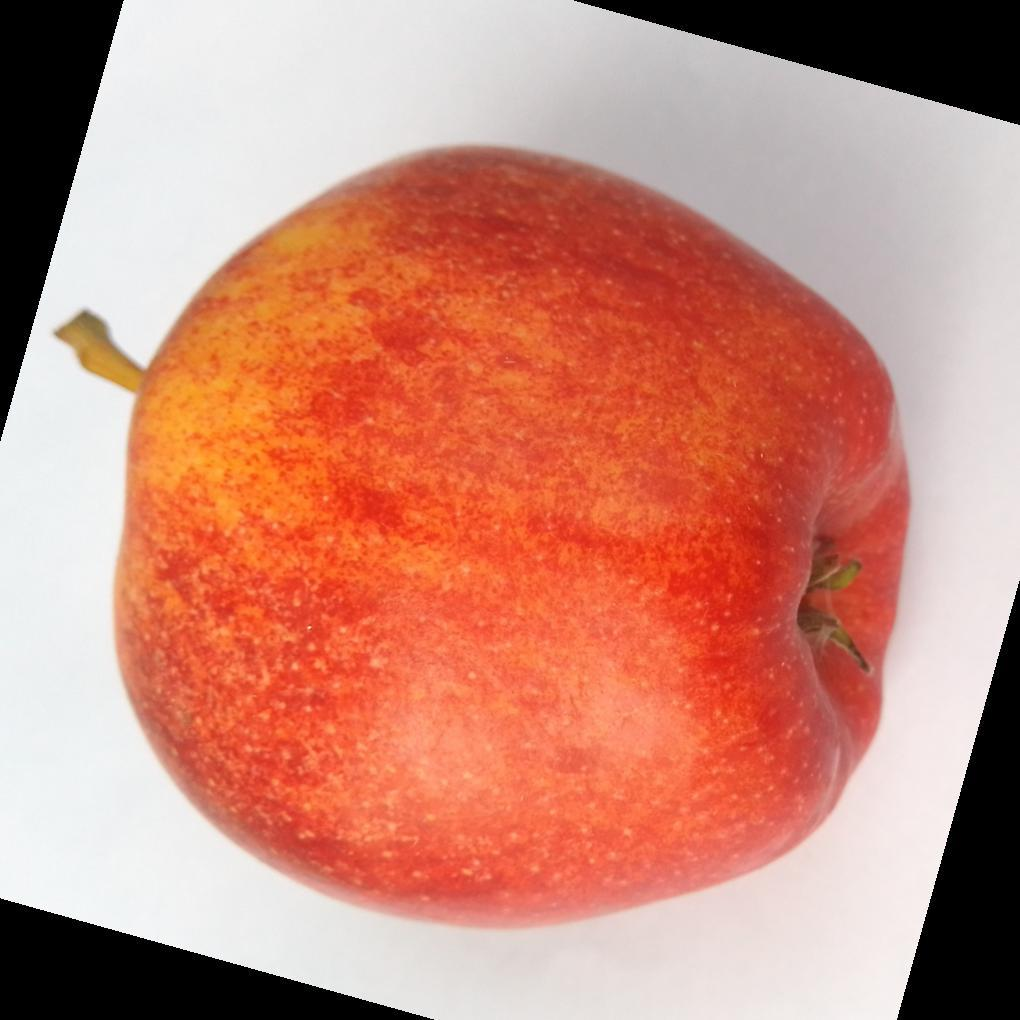FreshGuava: (109, 146, 914, 934)
